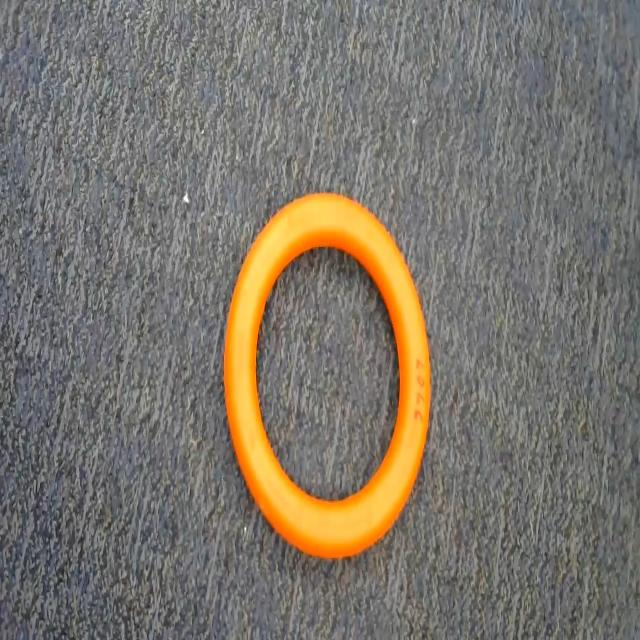note: (206, 177, 472, 571)
